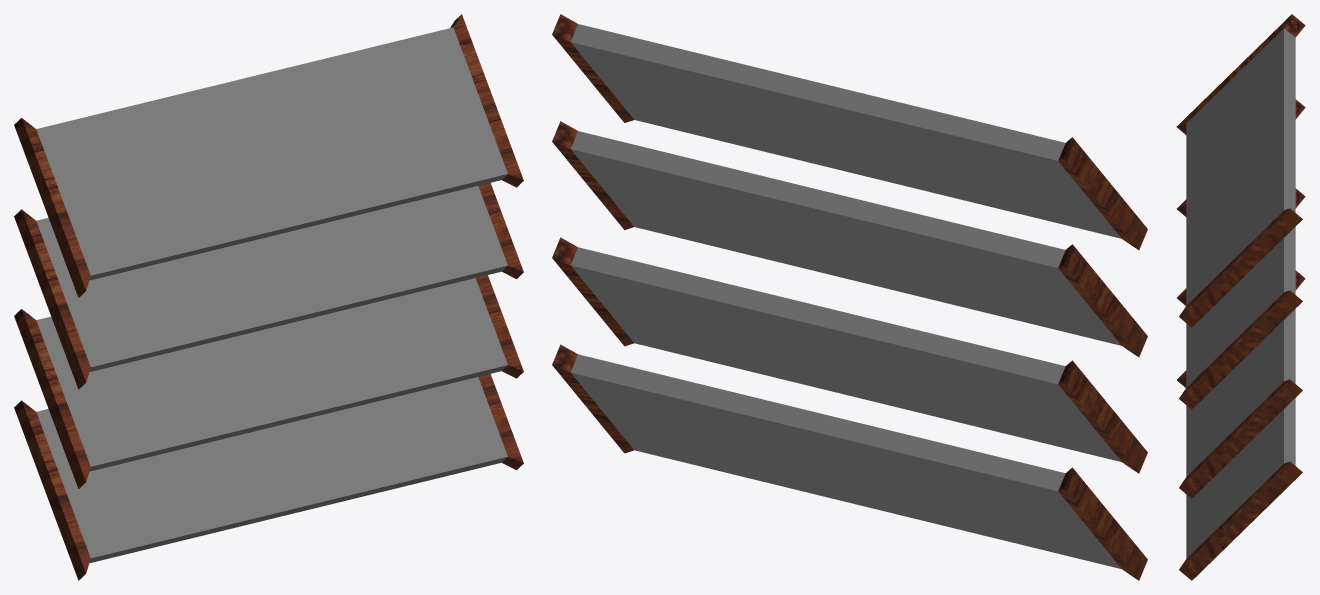
Rendered from Jendela.fbx.
The picture shows the model from 3 angles, left to right: view 1: azimuth 30°, elevation 25°; view 2: azimuth 150°, elevation 25°; view 3: azimuth 270°, elevation 25°; orthographic projection. The views are drawn at different scales.
Visible parts, largest first — view 1: Jendela; view 2: Jendela; view 3: Jendela.
Boxes of the visible parts, x1,y1,x2,y2 form: Jendela: (14,14,523,580); Jendela: (552,14,1147,580); Jendela: (1176,14,1305,580).
Size of the model in its own units: 586 by 537 by 167.
